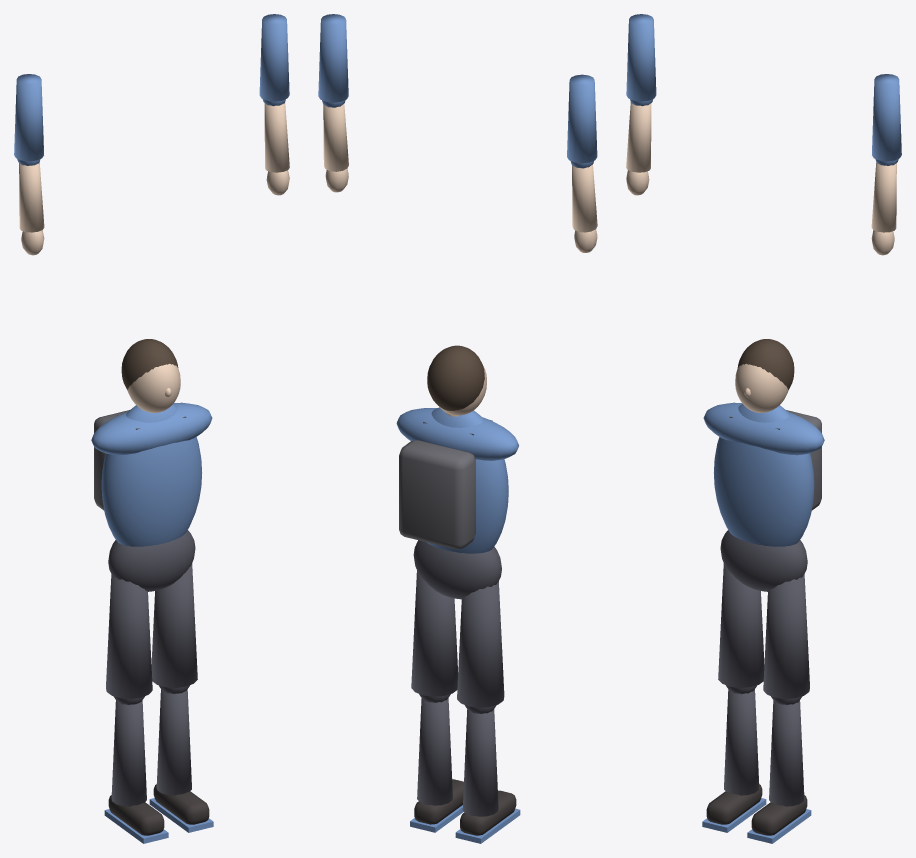
The model's file is pieton.glb.
3 views of the same model, side by side, from view 1: azimuth 30°, elevation 25°; view 2: azimuth 150°, elevation 25°; view 3: azimuth 330°, elevation 25° (orthographic).
Visible parts, largest first — view 1: torse, cuisse, cuisse.001, epaules, bassin, mollet, mollet.001, bras.001, bras, tete, avant_bras.001, cheveux (+6 smaller); view 2: sac, cuisse, cuisse.001, torse, bassin, epaules, mollet, mollet.001, cheveux, bras.001, bras, avant_bras.001 (+4 smaller); view 3: torse, cuisse.001, cuisse, epaules, bassin, mollet.001, mollet, bras, bras.001, tete, avant_bras, cheveux (+6 smaller).
Part boxes in pixels (x1,y1,x2,y2): torse: (101,404,201,546); cuisse: (106,574,152,698); cuisse.001: (151,563,197,687); epaules: (91,402,212,455); bassin: (108,530,195,591); mollet: (111,700,146,806); mollet.001: (156,689,191,795); bras.001: (259,14,289,101); bras: (14,74,43,161); tete: (127,363,180,412); avant_bras.001: (264,102,289,172); cheveux: (121,339,178,390); sac: (399,440,475,549); cuisse: (457,581,504,707); cuisse.001: (411,571,458,696); torse: (426,407,508,553); bassin: (413,540,501,599); epaules: (396,408,518,460); mollet: (462,709,498,816); mollet.001: (417,698,452,805); cheveux: (427,345,484,410); bras.001: (318,14,348,102); bras: (567,74,597,163); avant_bras.001: (323,104,348,171); torse: (714,404,814,546); cuisse.001: (763,574,809,698); cuisse: (718,563,764,687); epaules: (703,402,824,455); bassin: (720,530,807,591); mollet.001: (769,700,804,806); mollet: (724,689,759,795); bras: (626,14,656,101); bras.001: (872,74,901,161); tete: (735,363,788,412); avant_bras: (626,102,651,172); cheveux: (737,339,794,390).
Size of the model in its own units: 1.08 by 2.93 by 0.385.
